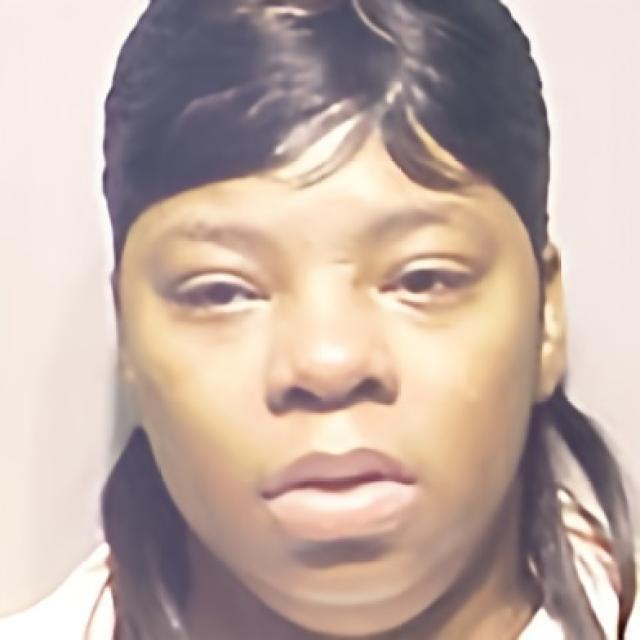neutral: (133, 137, 538, 621)
